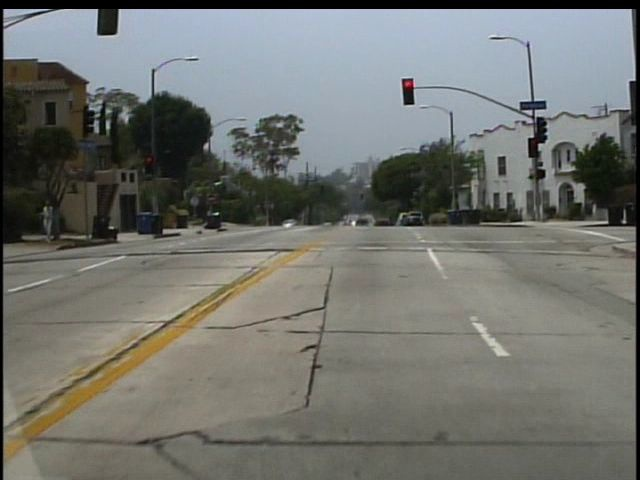person: (46, 199, 60, 242)
